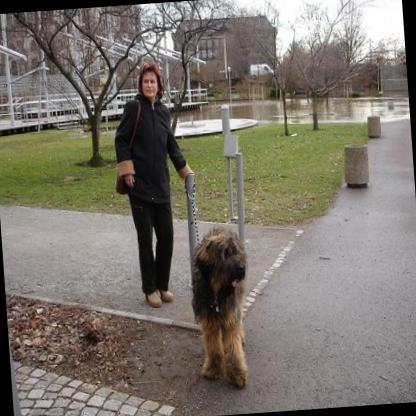briard: (181, 218, 256, 390)
